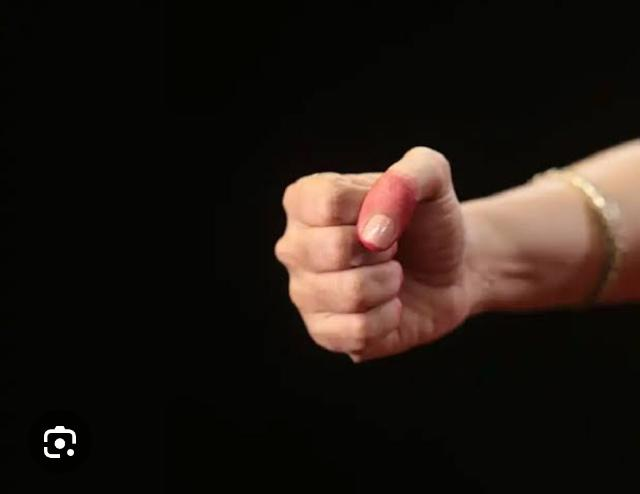mushti: (273, 147, 481, 361)
